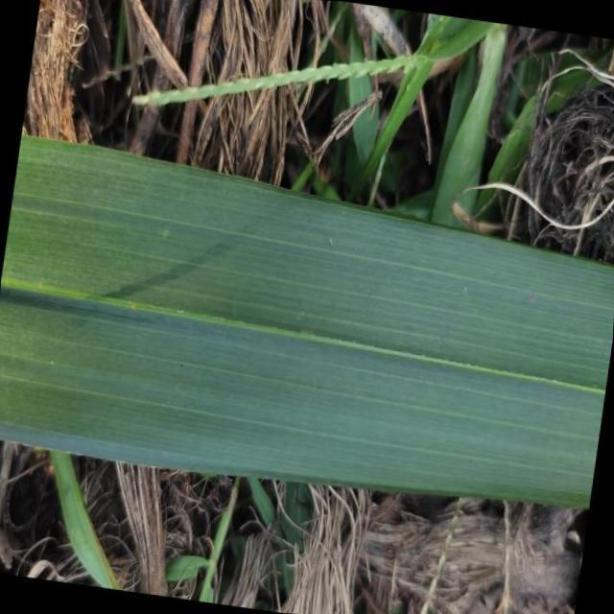Healthy: (0, 134, 596, 510)
